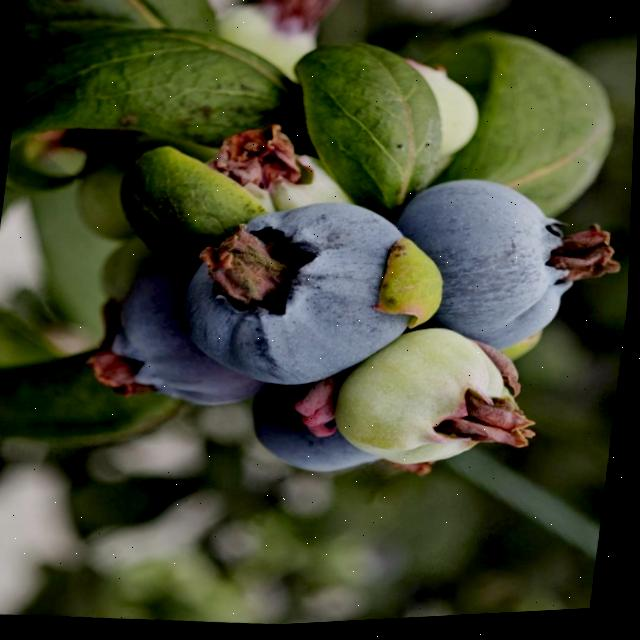RipeBlueBerry: (180, 192, 420, 395), (392, 173, 588, 356)
UnripeBlueBerry: (333, 328, 532, 487)
